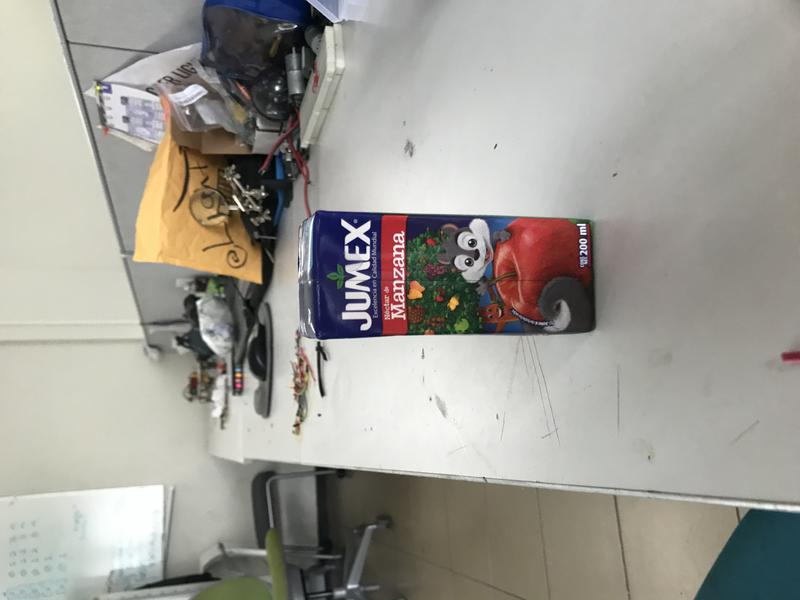jumex_cajita: (298, 211, 596, 340)
